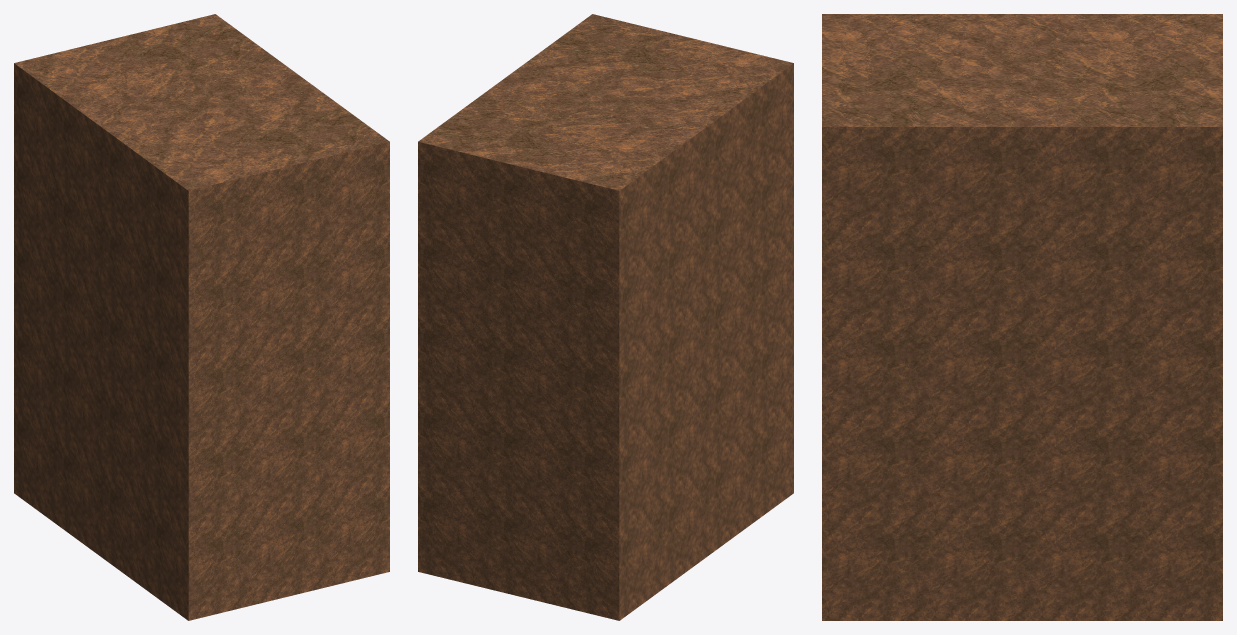
Rendered from Level2_14.glb.
3 views of the same model, side by side, from view 1: azimuth 30°, elevation 25°; view 2: azimuth 150°, elevation 25°; view 3: azimuth 270°, elevation 25° (orthographic). The views are drawn at different scales.
Parts seen in each view (by area): view 1: Level2_14; view 2: Level2_14; view 3: Level2_14.
Part boxes in pixels (x1,y1,x2,y2): Level2_14: (14,14,389,620); Level2_14: (418,14,793,620); Level2_14: (822,14,1222,620).
Bounding box in the file's own units: 50 × 102 × 75.
Materials: 1 (1 with a texture image).
